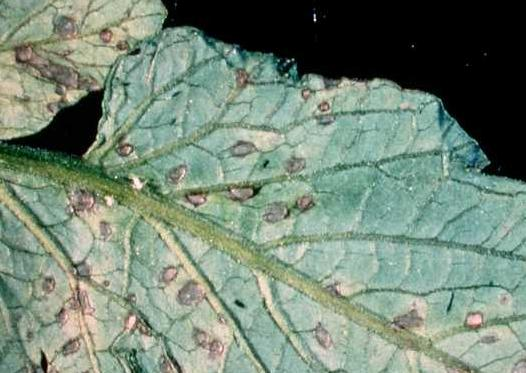Tomato Septoria leaf spot: (0, 0, 526, 373), (0, 0, 170, 140)
